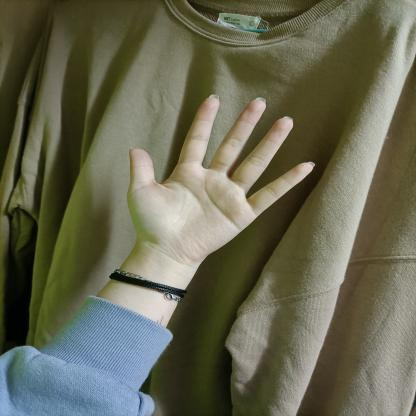bare_hand: (117, 86, 324, 274)
